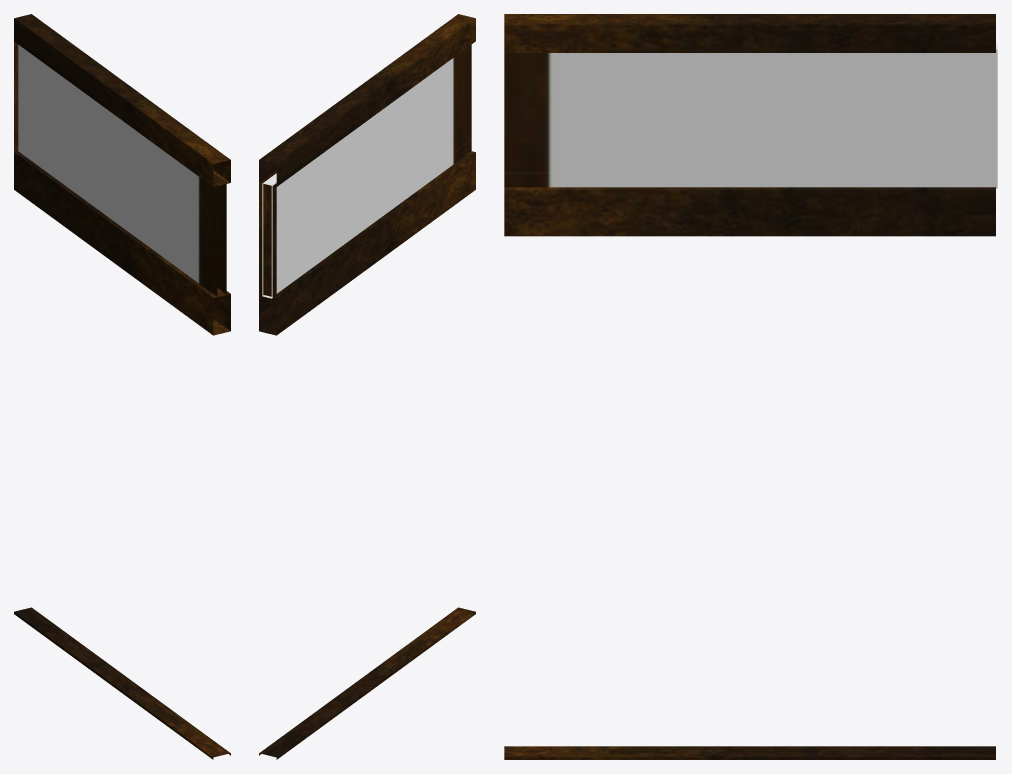
Rendered from Type_B_Door.fbx.
3 renders of one model, left to right at view 1: azimuth 30°, elevation 25°; view 2: azimuth 150°, elevation 25°; view 3: azimuth 270°, elevation 25°, orthographic. The views are drawn at different scales.
Parts seen in each view (by area): view 1: SP_UP; view 2: SP_UP; view 3: SP_UP.
Part boxes in pixels (bbox=[...]): SP_UP: bbox=[14, 14, 230, 759]; SP_UP: bbox=[259, 14, 475, 759]; SP_UP: bbox=[504, 14, 997, 759].
Size of the model in its own units: 7.42 by 241 by 147.
